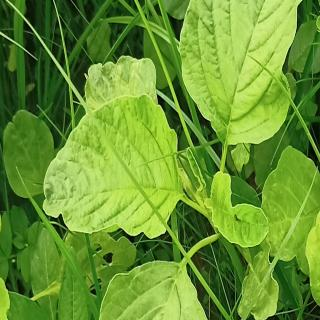virus_keriting: (79, 51, 159, 111)
